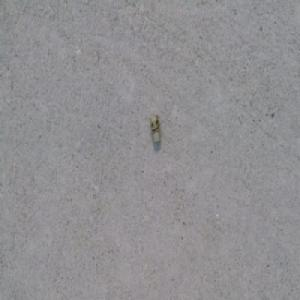BoltNutSet: (149, 113, 162, 145)
